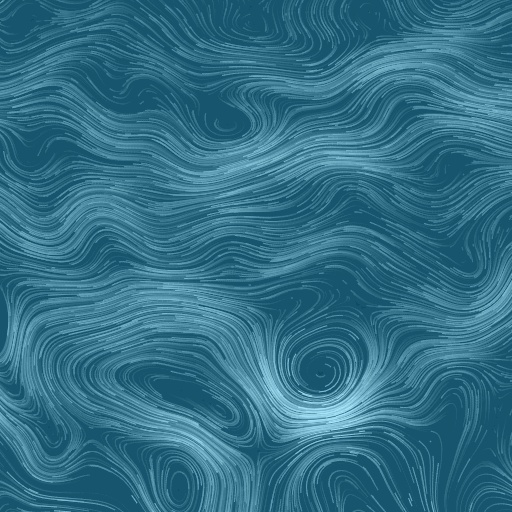eddy: (268, 318, 373, 417), (119, 360, 245, 437), (152, 451, 207, 511)
